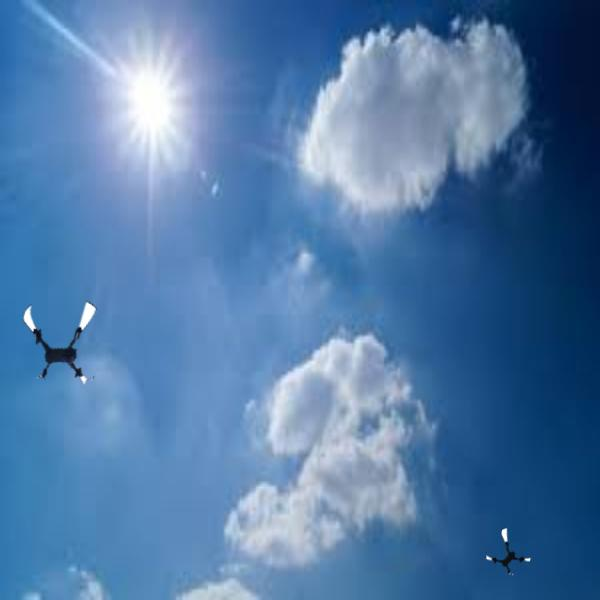drone: (12, 293, 108, 389), (484, 527, 536, 579)
